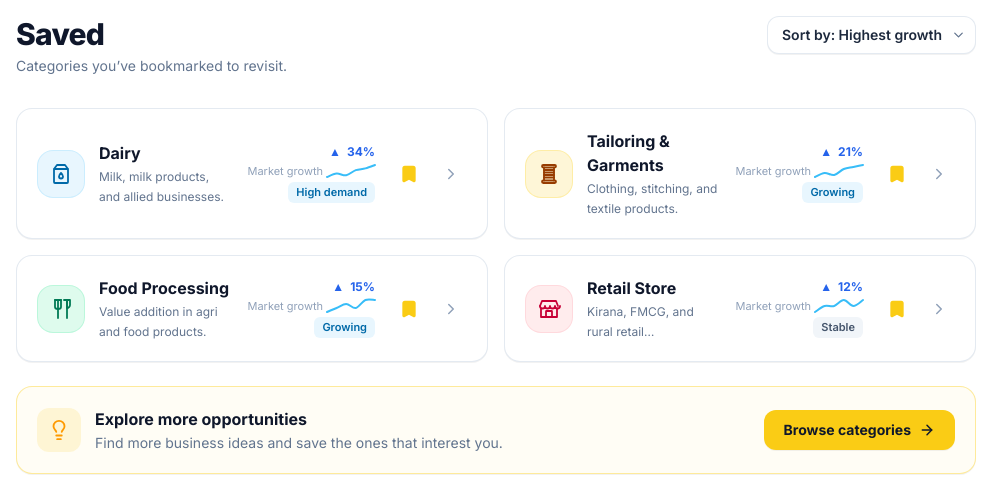
it: SavedView — Filled State › switches to empty state when all saved items are removed
The image size is (993, 492).
Click the button named "Remove Dairy from saved": point(409, 174) top-left (391, 156), bottom-right (427, 192)
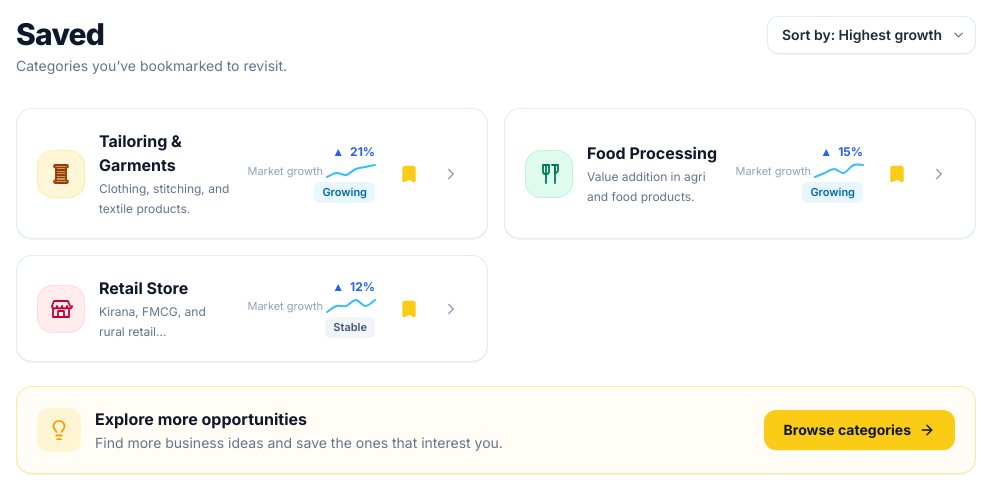
Click the button named "Remove Tailoring & Garments from saved": point(409, 174) top-left (391, 156), bottom-right (427, 192)
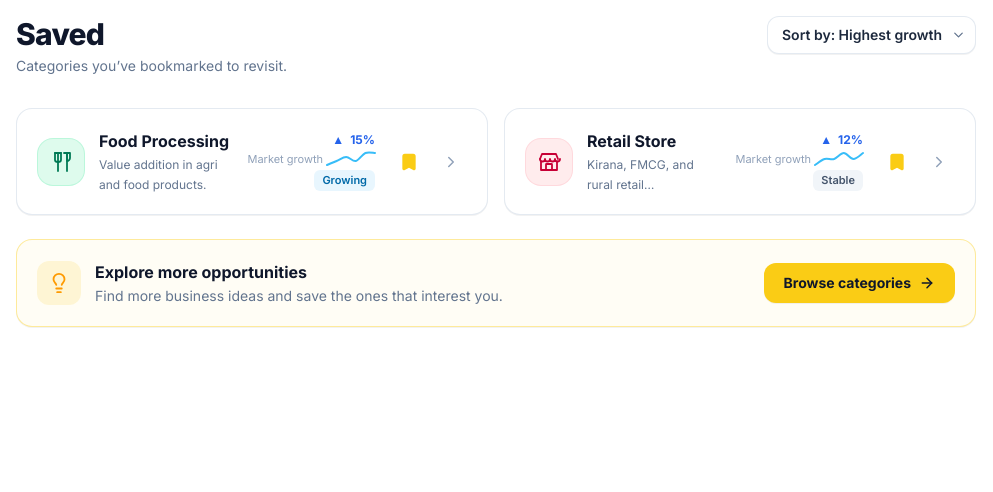
Click the button named "Remove Retail Store from saved": point(897, 162) top-left (879, 144), bottom-right (915, 180)
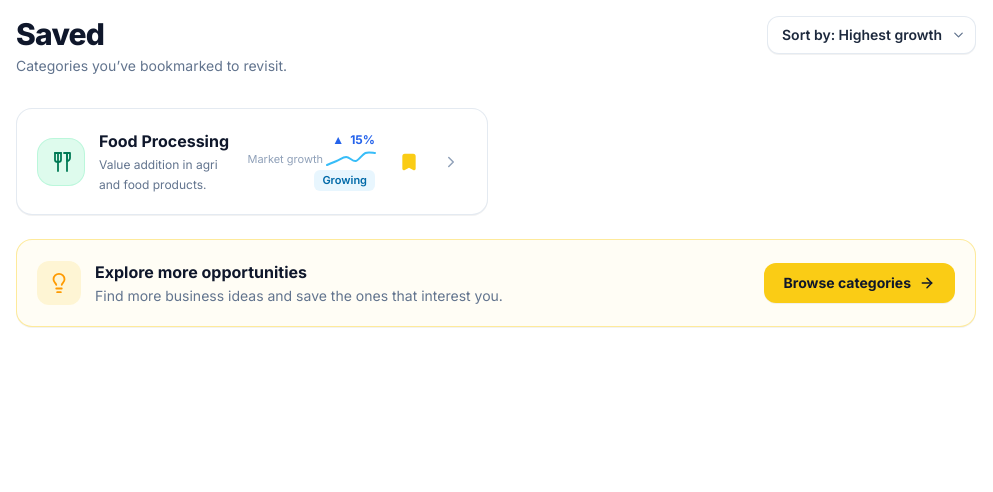
Click the button named "Remove Food Processing from saved": point(409, 162) top-left (391, 144), bottom-right (427, 180)
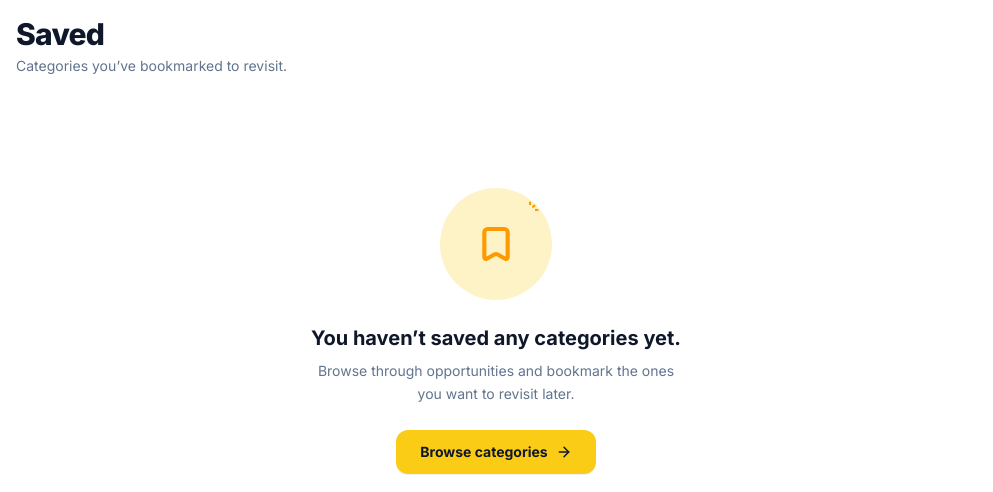
Expected: the link "Browse categories" is shown, top-left (396, 430), bottom-right (596, 474)
Expected: the heading "You haven’t saved any categories yet." is shown, top-left (311, 324), bottom-right (681, 352)
Expected: the text "Browse through opportunities and bookmark the ones you want to revisit later." is shown, top-left (304, 360), bottom-right (688, 406)
